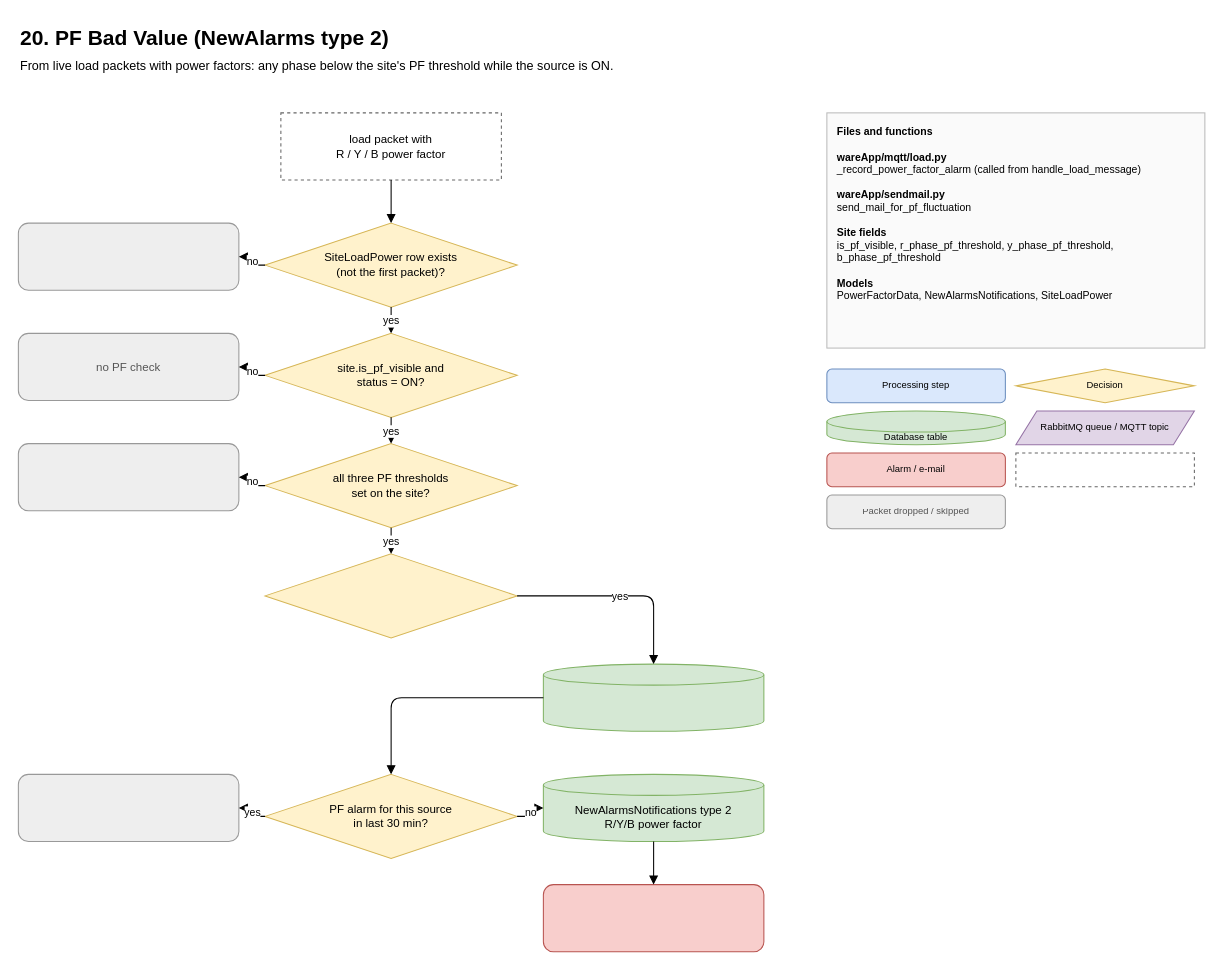
This 1223x970 diagram has some shape labels left out. The shapes that lost their labels are listed below. From the top down, each one's box as (x1, y1, x2, y2) in pixels, then its label:
(17, 222, 239, 290): first packet: create row, no PF check
(17, 443, 239, 511): skip; warning once per site per hour (sites 124, 131, 145, 153, 156 today)
(1015, 452, 1194, 487): External: gateway, broker, timer
(264, 553, 517, 638): any phase PF < its threshold?
(542, 663, 764, 731): PowerFactorData (low phases recorded)
(17, 773, 239, 842): skip (30 min)
(542, 884, 764, 952): e-mail 'PF Fluctuation Alarm' PF values and thresholds
